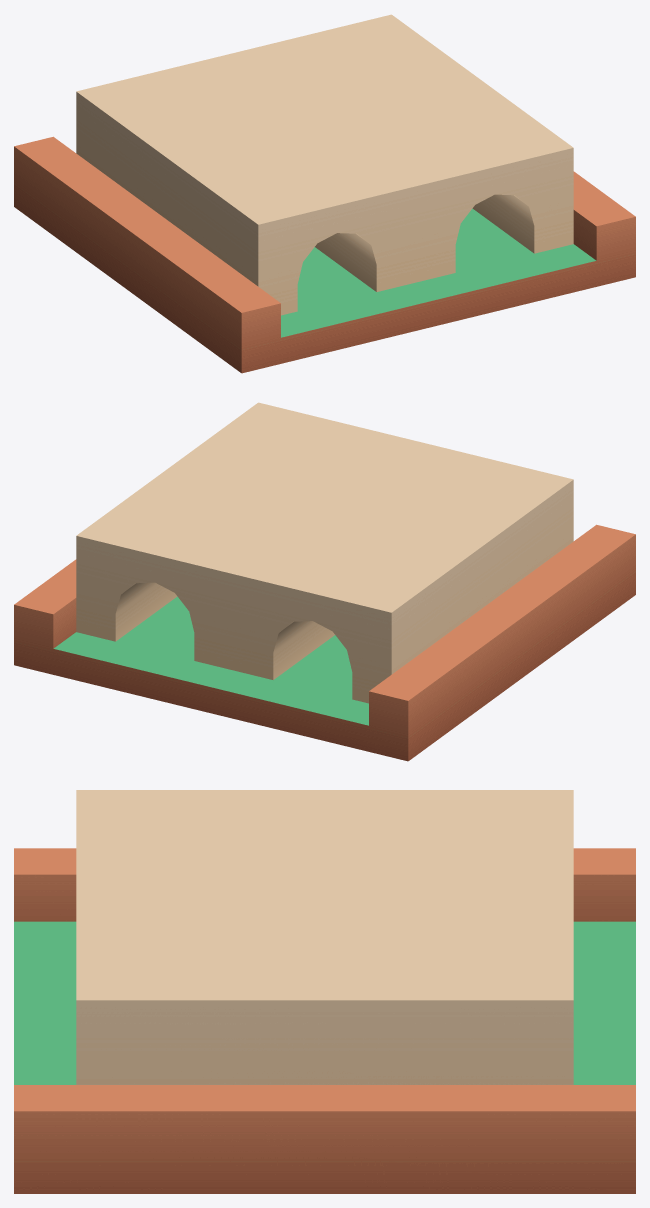
The model's file is tunnel_double.glb.
3 renders of one model, top to bottom at view 1: azimuth 30°, elevation 25°; view 2: azimuth 150°, elevation 25°; view 3: azimuth 270°, elevation 25°, orthographic. The views are drawn at different scales.
Visible parts, largest first — view 1: tunnel-double; view 2: tunnel-double; view 3: tunnel-double.
Boxes of the visible parts, box(x1,y1,x2,y2) form: tunnel-double: box(14, 14, 635, 373); tunnel-double: box(14, 402, 635, 761); tunnel-double: box(14, 790, 635, 1193).
Bounding box in the file's own units: 0.9999 × 0.2966 × 0.9999.
1 material, 1 textured.
